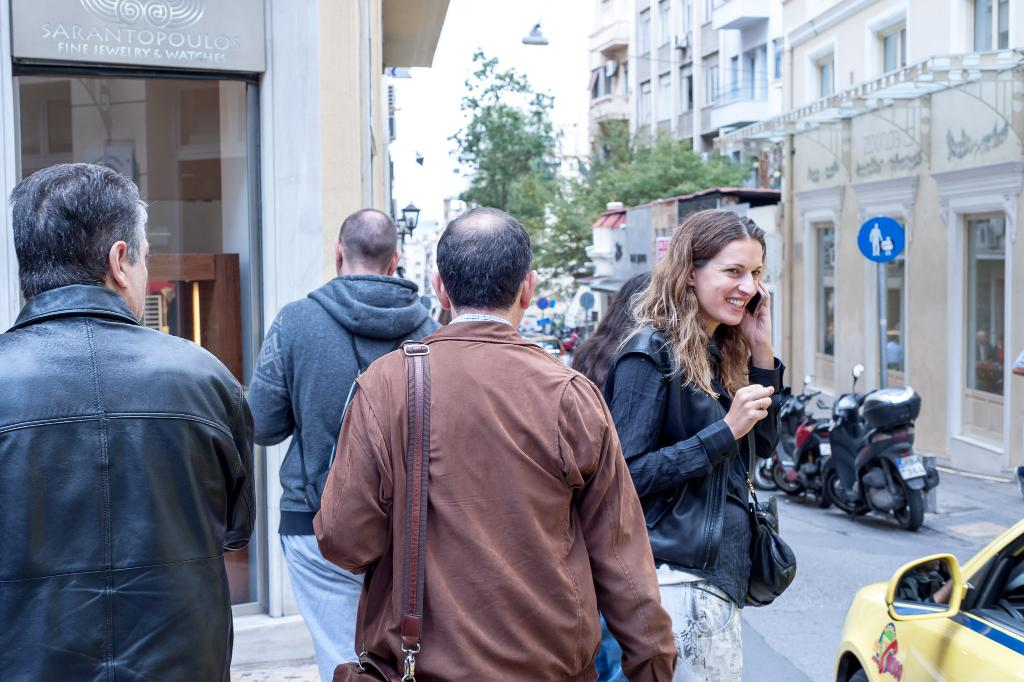Car: (836, 465, 1023, 681), (528, 334, 565, 363)
